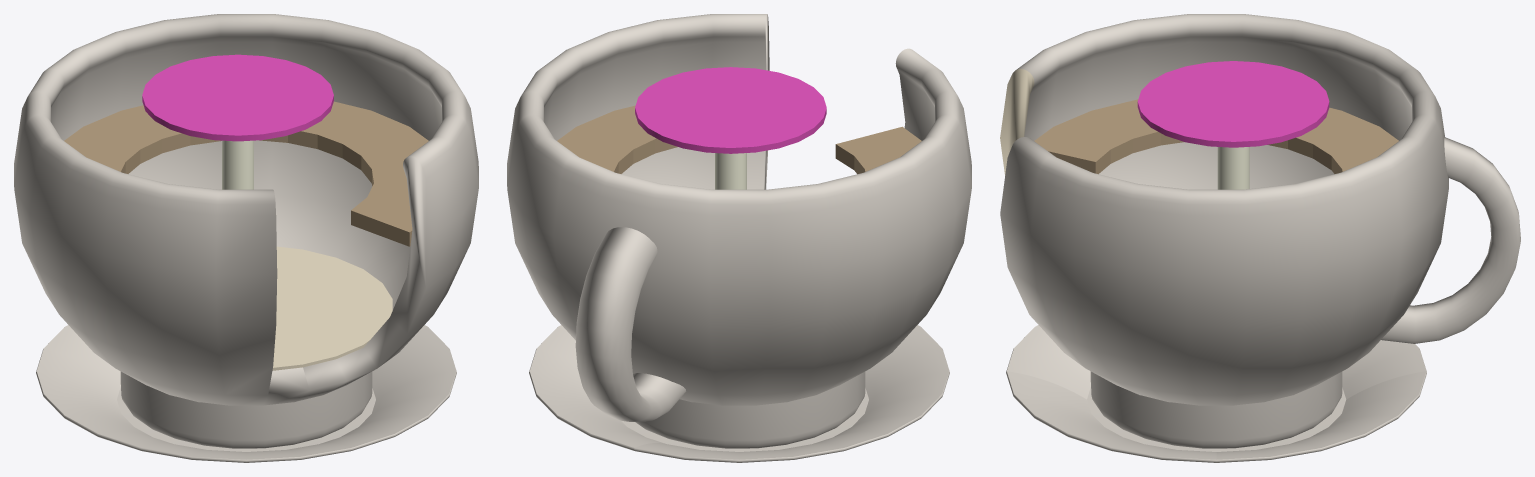
3 views of the same model, side by side, from view 1: azimuth 30°, elevation 25°; view 2: azimuth 150°, elevation 25°; view 3: azimuth 270°, elevation 25° (orthographic).
Visible parts, largest first — view 1: mesh19_mesh19-geometry, mesh3_mesh3-geometry, mesh1_mesh1-geometry, mesh7_mesh7-geometry, mesh4_mesh4-geometry, mesh16_mesh16-geometry, mesh10_mesh10-geometry; view 2: mesh19_mesh19-geometry, mesh3_mesh3-geometry, mesh7_mesh7-geometry, mesh13_mesh13-geometry, mesh16_mesh16-geometry, mesh1_mesh1-geometry, mesh10_mesh10-geometry; view 3: mesh19_mesh19-geometry, mesh3_mesh3-geometry, mesh7_mesh7-geometry, mesh16_mesh16-geometry, mesh1_mesh1-geometry, mesh13_mesh13-geometry, mesh19_mesh19-geometry_1, mesh10_mesh10-geometry.
Part boxes in pixels (bbox=[...]): mesh19_mesh19-geometry: bbox=[14, 14, 478, 405]; mesh3_mesh3-geometry: bbox=[36, 325, 456, 462]; mesh1_mesh1-geometry: bbox=[64, 101, 428, 246]; mesh7_mesh7-geometry: bbox=[142, 54, 333, 141]; mesh4_mesh4-geometry: bbox=[272, 246, 392, 370]; mesh16_mesh16-geometry: bbox=[120, 371, 372, 448]; mesh10_mesh10-geometry: bbox=[222, 140, 253, 189]; mesh19_mesh19-geometry: bbox=[507, 14, 971, 405]; mesh3_mesh3-geometry: bbox=[529, 325, 949, 462]; mesh7_mesh7-geometry: bbox=[635, 67, 826, 153]; mesh13_mesh13-geometry: bbox=[575, 227, 686, 421]; mesh16_mesh16-geometry: bbox=[635, 371, 865, 448]; mesh1_mesh1-geometry: bbox=[557, 105, 921, 174]; mesh10_mesh10-geometry: bbox=[715, 153, 746, 189]; mesh19_mesh19-geometry: bbox=[1000, 14, 1448, 405]; mesh3_mesh3-geometry: bbox=[1006, 325, 1426, 462]; mesh7_mesh7-geometry: bbox=[1137, 61, 1329, 147]; mesh16_mesh16-geometry: bbox=[1090, 371, 1342, 448]; mesh1_mesh1-geometry: bbox=[1034, 99, 1398, 174]; mesh13_mesh13-geometry: bbox=[1381, 137, 1520, 343]; mesh19_mesh19-geometry_1: bbox=[1000, 69, 1034, 175]; mesh10_mesh10-geometry: bbox=[1217, 147, 1249, 189].
Bounding box in the file's own units: 0.6011 × 0.4298 × 0.6737.
